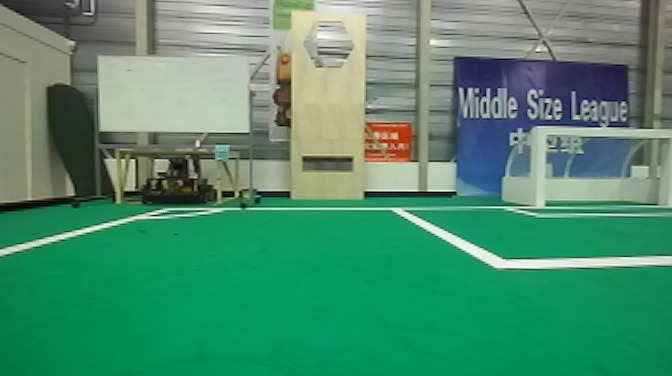goalpost: (523, 117, 552, 211)
